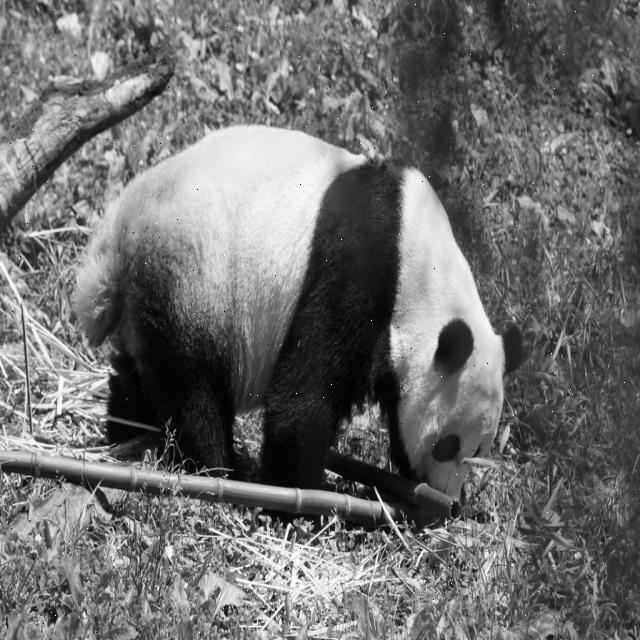panda: (75, 120, 523, 528)
